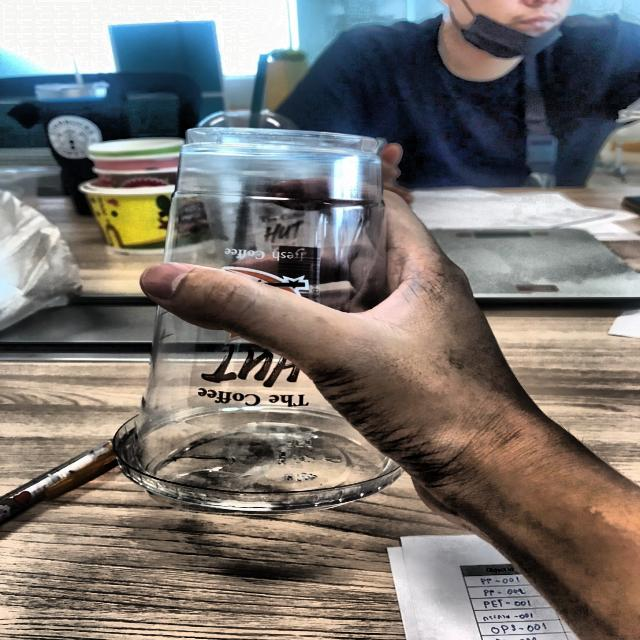plastic cup: (104, 114, 429, 520)
